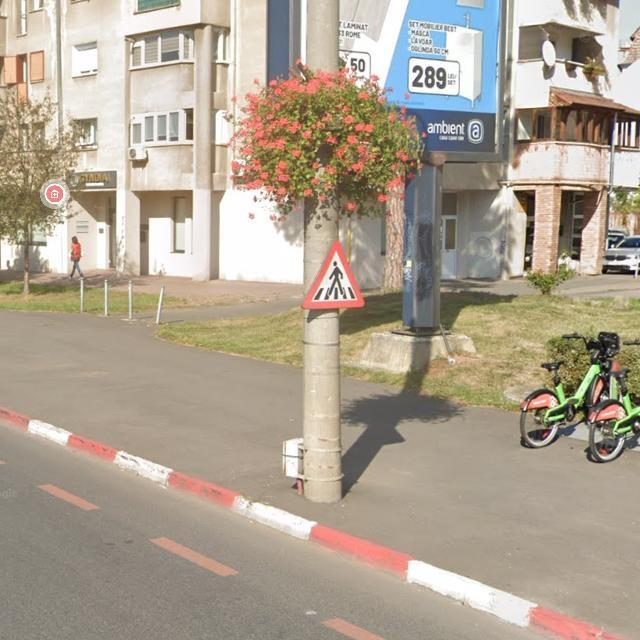warn_crosswalk: (298, 238, 368, 308)
